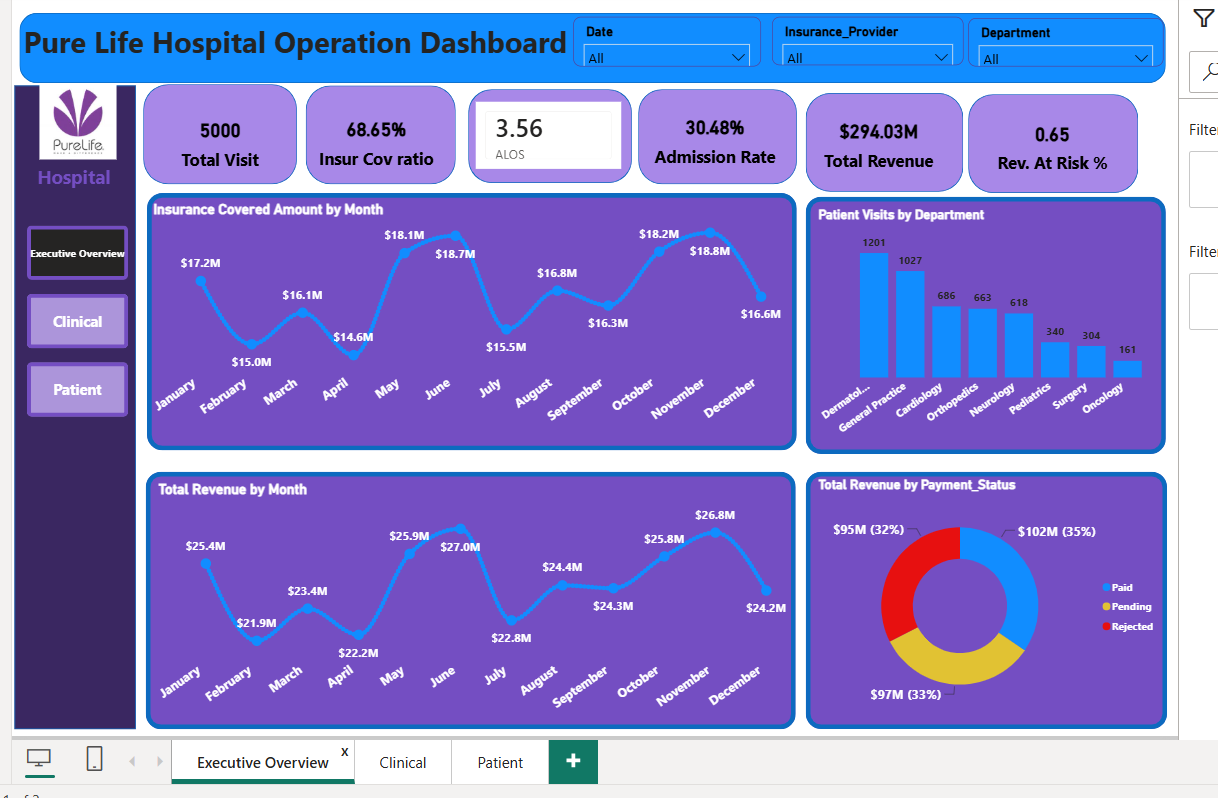

The dashboard page shown, as its layout file describes it:
{"tool":"powerbi","page":{"name":"Executive Overview ","canvas":[1500,950],"ordinal":0},"visuals":[{"type":"shape","box":[168.8,111,197.8,128.6],"z":0},{"type":"card","fields":{"Values":["Calculated Measures.Insurance Cov ratio"]},"box":[379.7,124.3,178.5,119],"z":0,"group":"g3"},{"type":"shape","box":[377.9,112.6,193,127],"z":1000},{"type":"card","fields":{"Values":["Calculated Measures.Total Visit"]},"box":[178.5,122.2,178.5,123.8],"z":1000,"group":"g3"},{"type":"cardVisual","fields":{"Data":["Calculated Measures.Average Length of Stay (ALOS)"]},"box":[591,128.3,197.8,96.5],"z":2000,"group":"g3"},{"type":"shape","box":[172.4,609.5,836.2,331.3],"z":2000},{"type":"shape","box":[586.9,117.4,210.7,120.6],"z":3000},{"type":"card","fields":{"Values":["Calculated Measures.Admission Rate"]},"box":[812.9,134.7,181.7,90.1],"z":3000,"group":"g3"},{"type":"shape","box":[9.6,19.3,1474.6,90.1],"z":4000},{"type":"slicer","fields":{"Values":["Date Table.Date"]},"box":[722,24.1,241.2,64.3],"z":4000,"group":"g2"},{"type":"card","fields":{"Values":["Calculated Measures.Total Billing Amount"]},"box":[1021.3,133.9,188.1,104.5],"z":4000,"group":"g3"},{"type":"shape","box":[805.6,117.4,204.2,122.2],"z":5000},{"type":"card","fields":{"Values":["Calculated Measures.Revenue At Risk %"]},"box":[1244.6,136.7,188.1,104.5],"z":5000,"group":"g3"},{"type":"textbox","box":[9.6,25.7,712.4,62.7],"z":6000},{"type":"shape","box":[1021.1,122.2,202.6,127],"z":7000},{"type":"shape","box":[3.2,112.6,156,828.2],"z":8000},{"type":"shape","box":[174.2,251.5,835.7,331.1],"z":9000},{"type":"shape","box":[1020.7,255.7,463.2,331.1],"z":10000},{"type":"shape","box":[1020.7,609.1,464.8,331.1],"z":11000},{"type":"group","id":"g1","title":"Group 2","box":[19.5,109.2,130.5,429.8],"z":12000},{"type":"lineChart","fields":{"Y":["Calculated Measures.Insurance Covered Amount"],"Category":["Date Table.Date.Variation.Date Hierarchy.Year","Date Table.Date.Variation.Date Hierarchy.Quarter","Date Table.Date.Variation.Date Hierarchy.Month"]},"box":[177,261.2,818.2,305.6],"z":13000},{"type":"slicer","fields":{"Values":["Dm_Doctor.Department"]},"box":[1230.8,26.4,251.5,62.1],"z":14000,"group":"g2"},{"type":"lineChart","title":"Revenue by Month","fields":{"Y":["Calculated Measures.Total Billing Amount"],"Category":["Date Table.Date.Variation.Date Hierarchy.Year","Date Table.Date.Variation.Date Hierarchy.Quarter","Date Table.Date.Variation.Date Hierarchy.Month"]},"box":[183.6,620.7,818.5,315.2],"z":14000},{"type":"slicer","fields":{"Values":["Visit_Fact.Insurance_Provider"]},"box":[977.7,24.1,246.7,62.1],"z":15000,"group":"g2"},{"type":"columnChart","title":"Patient Visits by Department","fields":{"Category":["Dm_Doctor.Department"],"Y":["CountNonNull(Visit_Fact.Payment_Status)"]},"box":[1031.9,268.5,445.7,308.9],"z":15000},{"type":"donutChart","title":"Revenue by Payment_Status","fields":{"Category":["Visit_Fact.Payment_Status"],"Y":["Calculated Measures.Total Revenue"]},"box":[1031.9,615.4,450.5,313.6],"z":16000},{"type":"group","id":"g2","title":"Group 3","box":[722,24.1,760.3,64.4],"z":17000},{"type":"image","box":[19.5,109.2,130.5,98.7],"z":18000,"group":"g1"},{"type":"shape","box":[1230.2,123.8,218.7,127],"z":18000},{"type":"group","id":"g3","title":"Group 1","box":[178.5,122.2,1254.3,123.8],"z":19000},{"type":"textbox","box":[27.5,209.5,114.6,46.2],"z":19000,"group":"g1"},{"type":"pageNavigator","box":[19.5,292.3,130.5,246.7],"z":21000,"group":"g1"}]}

Visuals, with their boxes on the page's 1500x950 design canvas (x1, y1, x2, y2). These are canvas units, not pixel positions in the 1218x798 screenshot, which may show the page scaled, cropped or inside an application window:
shape: [x1=169, y1=111, x2=367, y2=240]
card - Calculated Measures.Insurance Cov ratio: [x1=380, y1=124, x2=558, y2=243]
shape: [x1=378, y1=113, x2=571, y2=240]
card - Calculated Measures.Total Visit: [x1=178, y1=122, x2=357, y2=246]
cardVisual - Calculated Measures.Average Length of Stay (ALOS): [x1=591, y1=128, x2=789, y2=225]
shape: [x1=172, y1=610, x2=1009, y2=941]
shape: [x1=587, y1=117, x2=798, y2=238]
card - Calculated Measures.Admission Rate: [x1=813, y1=135, x2=995, y2=225]
shape: [x1=10, y1=19, x2=1484, y2=109]
slicer - Date Table.Date: [x1=722, y1=24, x2=963, y2=88]
card - Calculated Measures.Total Billing Amount: [x1=1021, y1=134, x2=1209, y2=238]
shape: [x1=806, y1=117, x2=1010, y2=240]
card - Calculated Measures.Revenue At Risk %: [x1=1245, y1=137, x2=1433, y2=241]
textbox: [x1=10, y1=26, x2=722, y2=88]
shape: [x1=1021, y1=122, x2=1224, y2=249]
shape: [x1=3, y1=113, x2=159, y2=941]
shape: [x1=174, y1=252, x2=1010, y2=583]
shape: [x1=1021, y1=256, x2=1484, y2=587]
shape: [x1=1021, y1=609, x2=1486, y2=940]
"Group 2" group: [x1=20, y1=109, x2=150, y2=539]
lineChart - Calculated Measures.Insurance Covered Amount x Date Table.Date.Variation.Date Hierarchy.Year: [x1=177, y1=261, x2=995, y2=567]
slicer - Dm_Doctor.Department: [x1=1231, y1=26, x2=1482, y2=88]
"Revenue by Month" lineChart: [x1=184, y1=621, x2=1002, y2=936]
slicer - Visit_Fact.Insurance_Provider: [x1=978, y1=24, x2=1224, y2=86]
"Patient Visits by Department" columnChart: [x1=1032, y1=268, x2=1478, y2=577]
"Revenue by Payment_Status" donutChart: [x1=1032, y1=615, x2=1482, y2=929]
"Group 3" group: [x1=722, y1=24, x2=1482, y2=88]
image: [x1=20, y1=109, x2=150, y2=208]
shape: [x1=1230, y1=124, x2=1449, y2=251]
"Group 1" group: [x1=178, y1=122, x2=1433, y2=246]
textbox: [x1=28, y1=210, x2=142, y2=256]
pageNavigator: [x1=20, y1=292, x2=150, y2=539]
